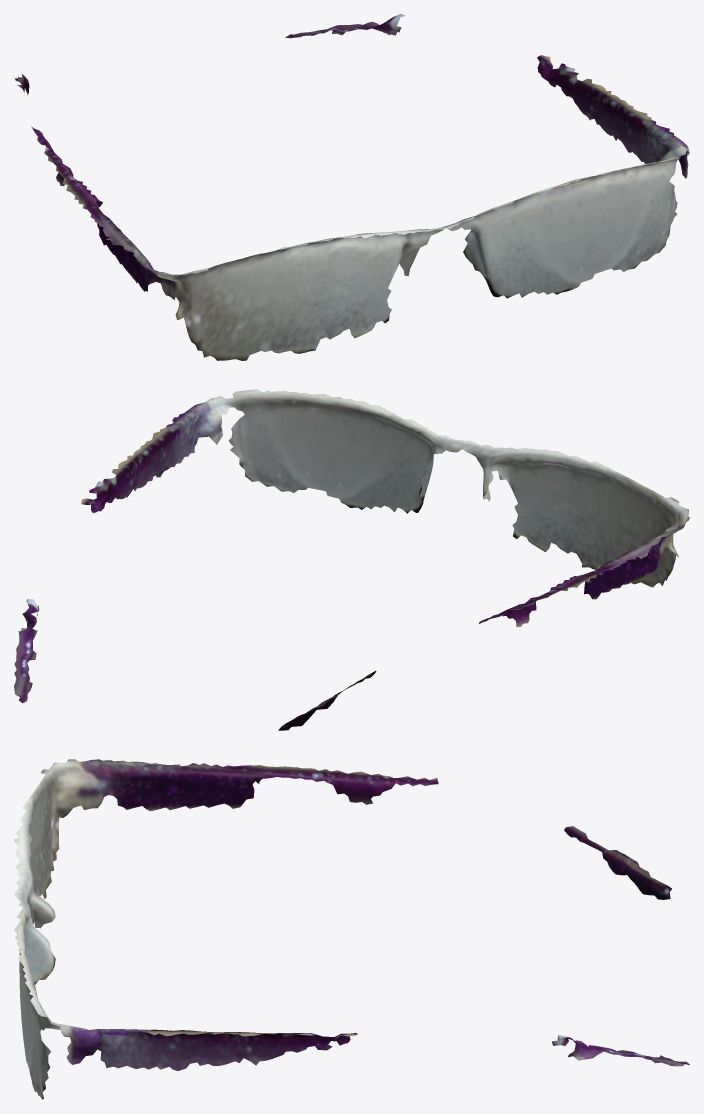
File: scan_align.obj
The picture shows the model from 3 angles, top to bottom: view 1: azimuth 30°, elevation 25°; view 2: azimuth 150°, elevation 25°; view 3: azimuth 270°, elevation 25°; orthographic projection. The views are drawn at different scales.
Bounding box in the file's own units: 0.1342 × 0.0269 × 0.1401.
Materials: 1 (1 with a texture image).
